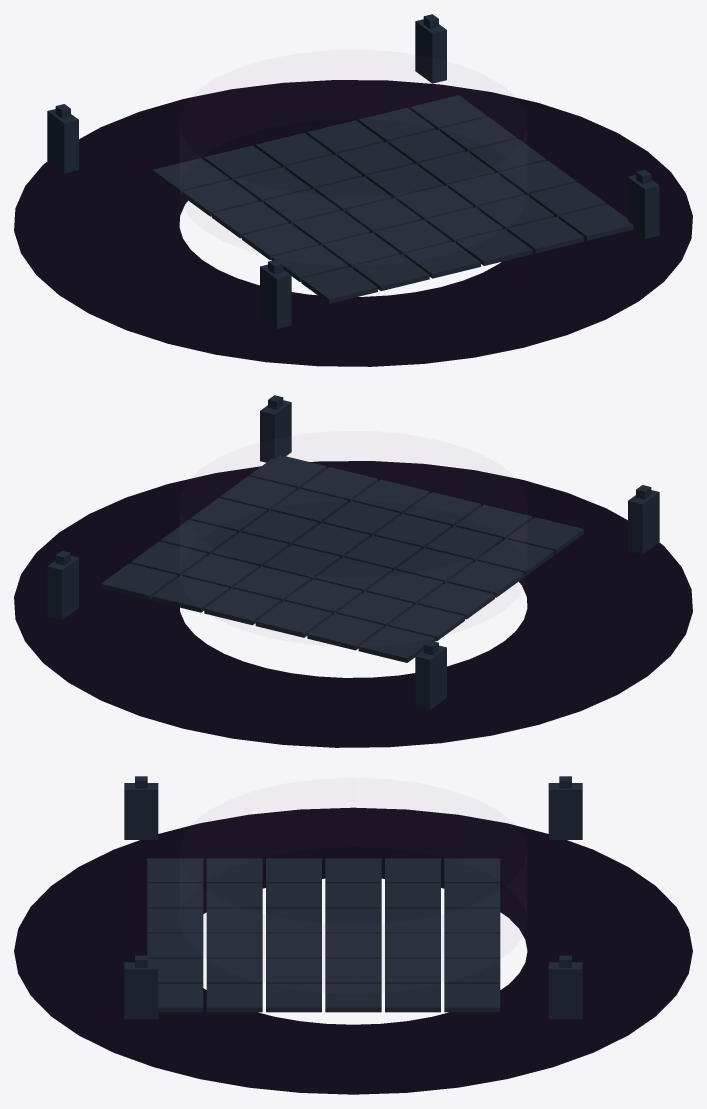
Rendered from evt_03.glb.
The picture shows the model from 3 angles, top to bottom: view 1: azimuth 30°, elevation 25°; view 2: azimuth 150°, elevation 25°; view 3: azimuth 270°, elevation 25°; orthographic projection.
Parts seen in each view (by area): view 1: EVT_03, chaos_castle_ruins; view 2: EVT_03, chaos_castle_ruins; view 3: EVT_03, chaos_castle_ruins.
Part boxes in pixels (x1,y1,x2,y2): EVT_03: (14, 80, 692, 366); chaos_castle_ruins: (47, 14, 659, 328); EVT_03: (14, 455, 692, 747); chaos_castle_ruins: (47, 395, 659, 709); EVT_03: (14, 807, 692, 1094); chaos_castle_ruins: (124, 776, 582, 1019).
Size of the model in its own units: 80 by 13 by 80.
